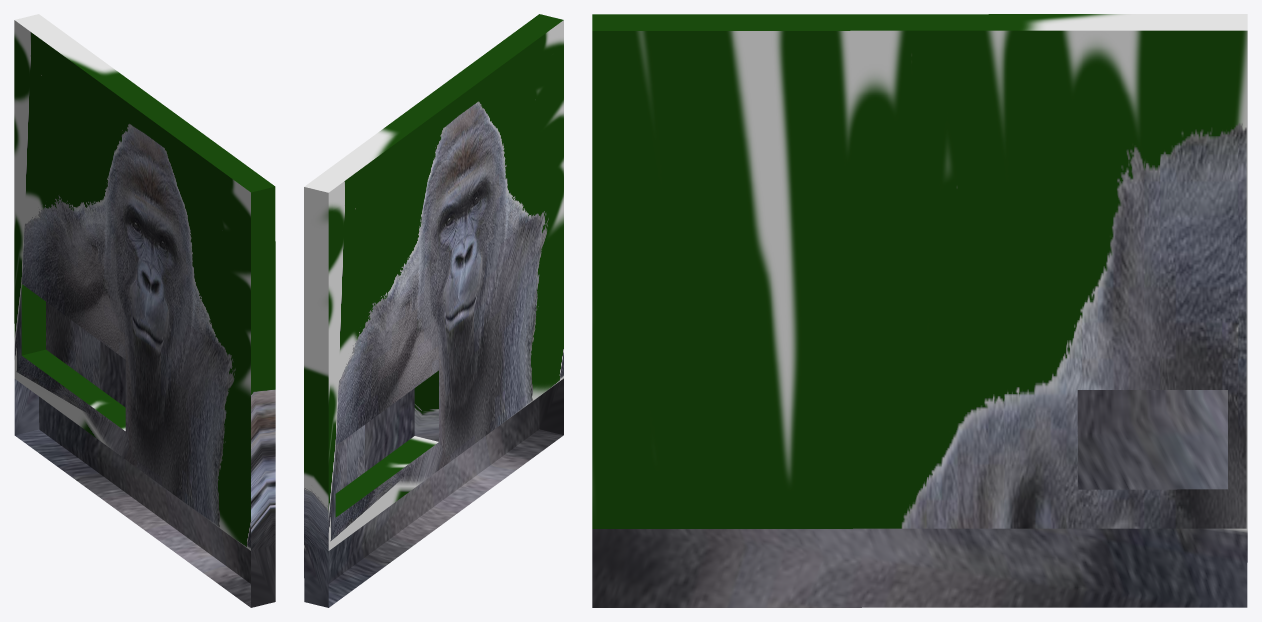
The model's file is pt_backboard.obj.
The picture shows the model from 3 angles, left to right: view 1: azimuth 30°, elevation 25°; view 2: azimuth 150°, elevation 25°; view 3: azimuth 270°, elevation 25°; orthographic projection. The views are drawn at different scales.
Parts seen in each view (by area): view 1: Board_Cube.000; view 2: Board_Cube.000; view 3: Board_Cube.000.
Boxes of the visible parts, x1,y1,x2,y2 form: Board_Cube.000: (14,14,275,607); Board_Cube.000: (304,14,563,607); Board_Cube.000: (592,14,1247,607).
Bounding box in the file's own units: 1.03 × 16.22 × 16.7.
1 material, 1 textured.
